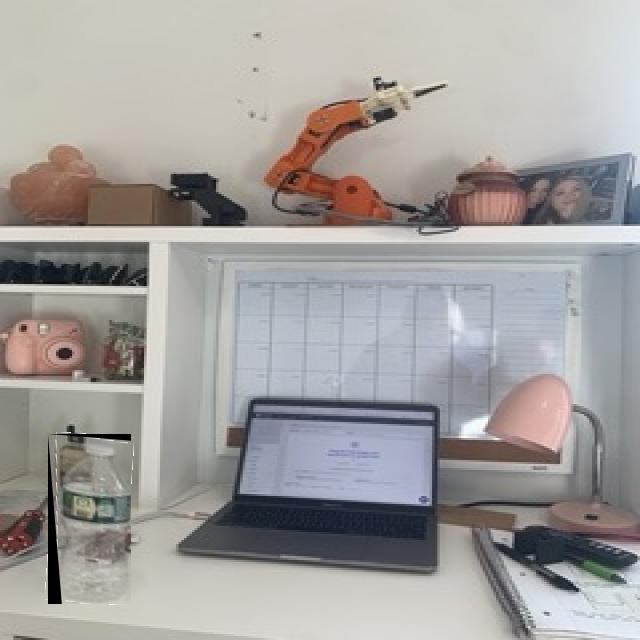water_bottle: (48, 434, 131, 604)
